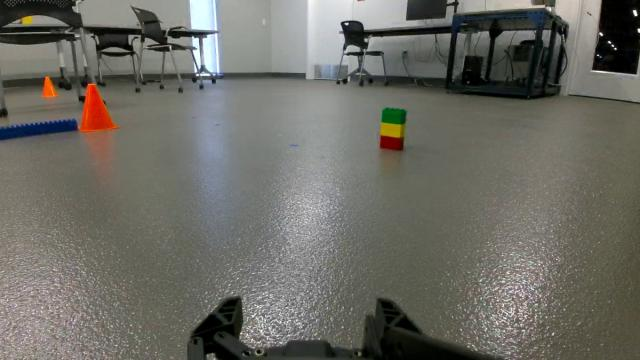lego: (372, 99, 416, 162)
